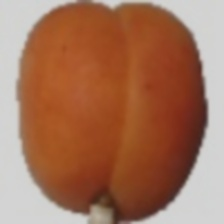apricot: (43, 21, 219, 174)
